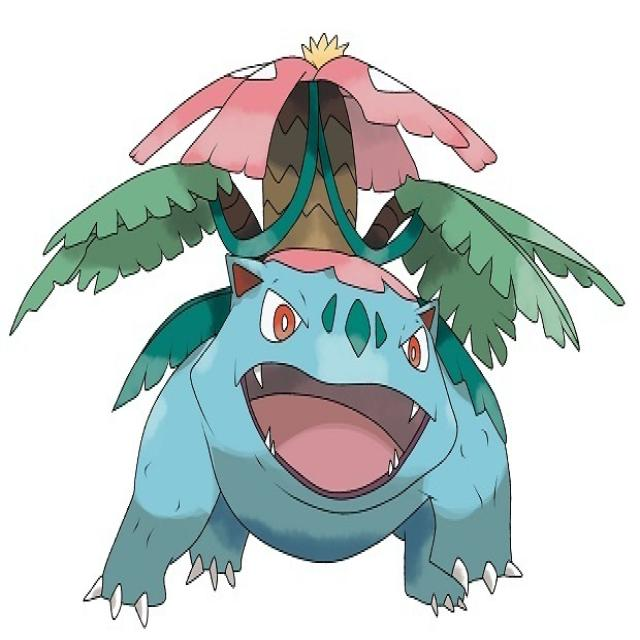Venusaur: (167, 52, 496, 582)
